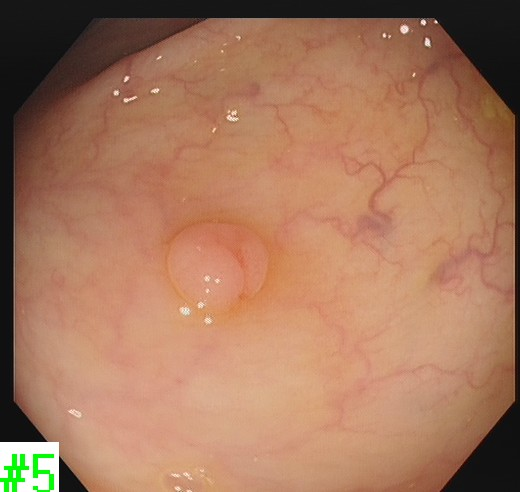adenoma: (161, 217, 272, 316)
